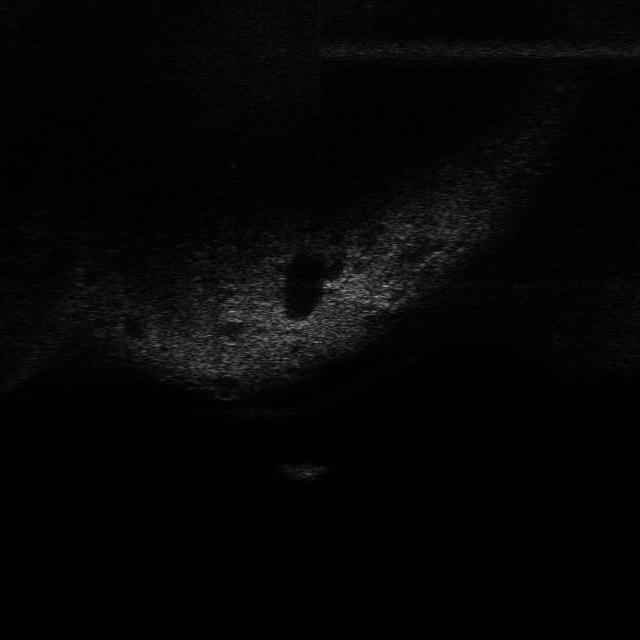cube: (277, 458, 332, 483)
